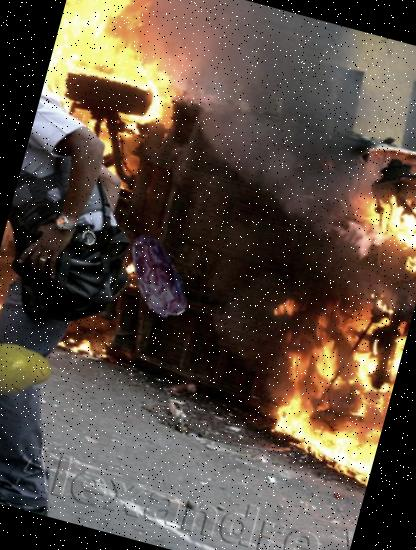Dates: (102, 224, 210, 332)
Pear: (0, 325, 62, 416)
